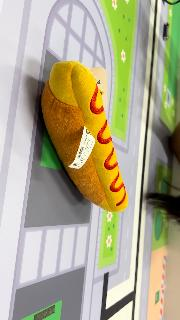hotdog: (41, 60, 129, 214)
